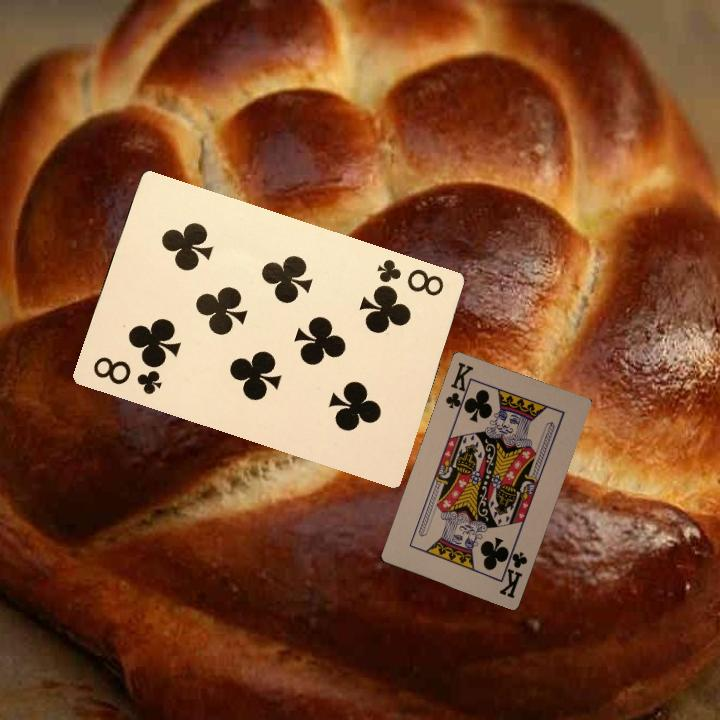8c: (89, 352, 165, 397), (372, 255, 446, 299)
Kc: (441, 358, 476, 416), (495, 544, 530, 601)
